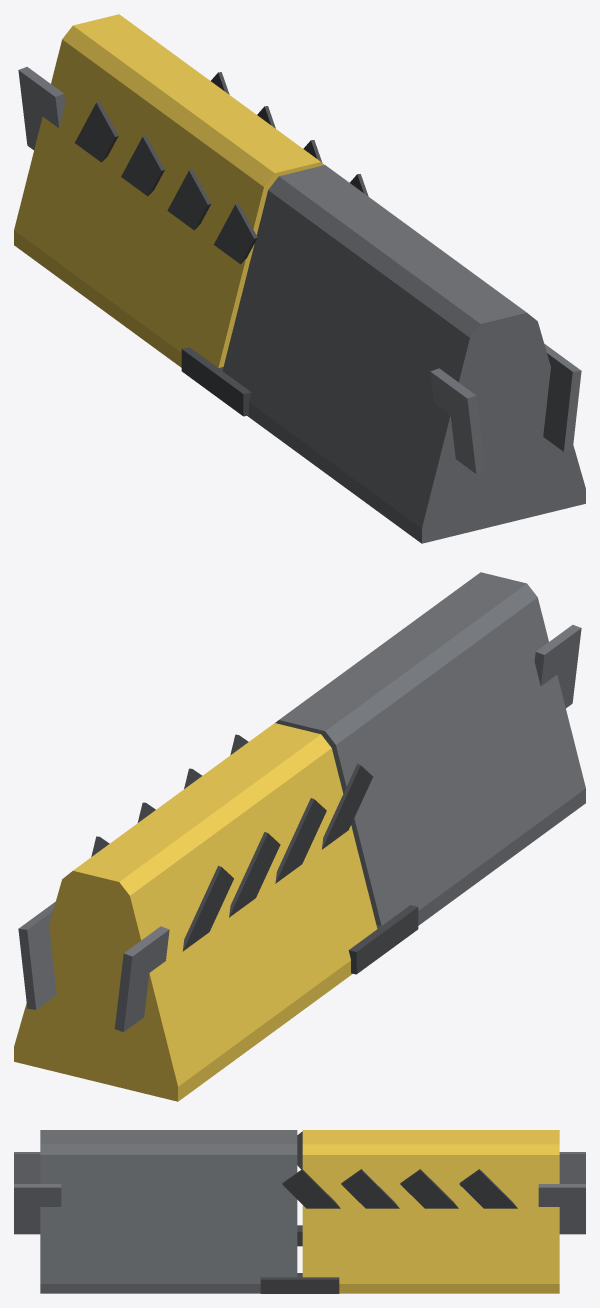
Rendered from heatsinkBarrierA.ac31de34.glb.
3 views of the same model, one above another, from view 1: azimuth 30°, elevation 25°; view 2: azimuth 150°, elevation 25°; view 3: azimuth 270°, elevation 25° (orthographic). The views are drawn at different scales.
Parts seen in each view (by area): view 1: barrier_a; view 2: barrier_a; view 3: barrier_a.
Part boxes in pixels (x1,y1,x2,y2): barrier_a: (14, 14, 585, 543); barrier_a: (14, 572, 585, 1101); barrier_a: (14, 1130, 585, 1293).
Bounding box in the file's own units: 0.98 × 1.1 × 4.36.
